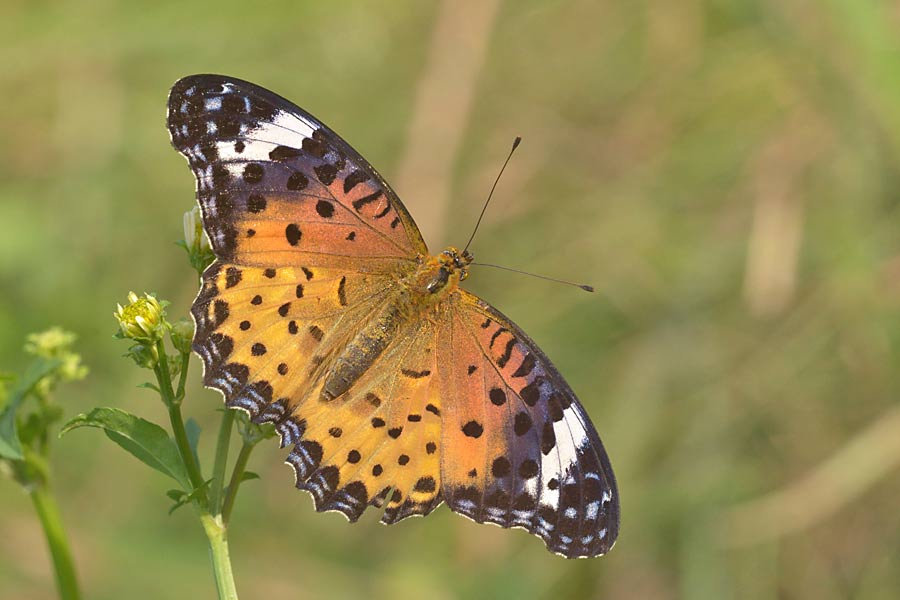Argyreus hyperbius: (163, 60, 631, 567)
butterfly: (165, 62, 633, 569)
